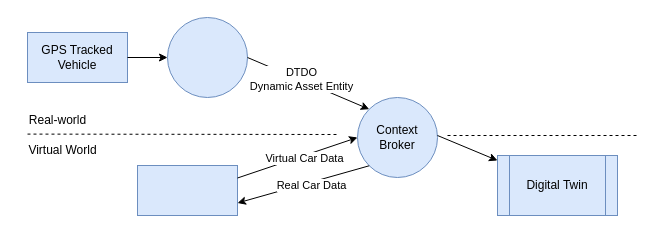
Some shapes in this 656 by 233 pixel diagram are drawn without their labels. The centre of each missing label's shape, as x and y in pixels:
MQTT Broker: point (207, 57)
Simulator Engine (SUMO): point (187, 190)
